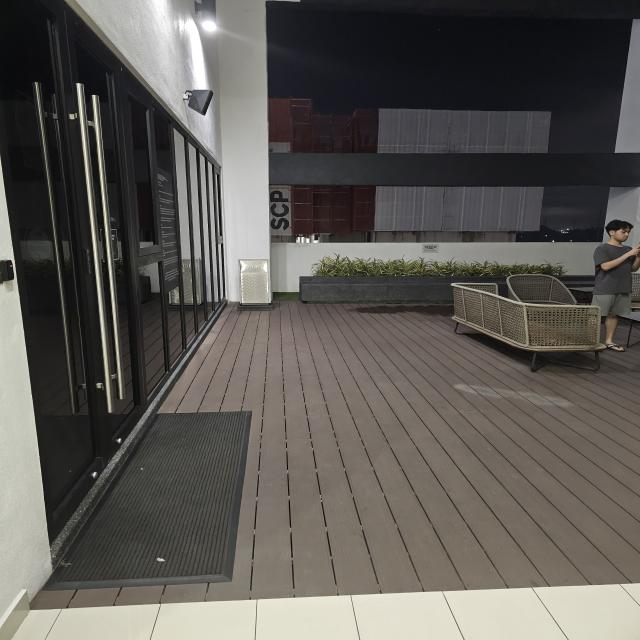footpath: (151, 393, 640, 640), (218, 314, 447, 394)
obstacle: (448, 281, 609, 375), (296, 255, 570, 308), (308, 254, 568, 278), (236, 258, 276, 312)
person: (590, 213, 640, 348)
